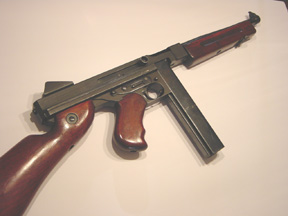rifle: (4, 10, 261, 212)
